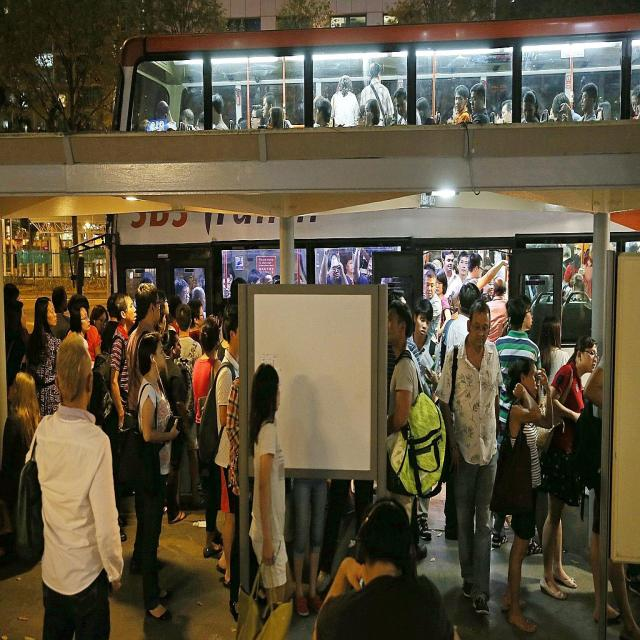body: (11, 329, 127, 639), (311, 494, 461, 640), (436, 296, 504, 617), (569, 350, 640, 639), (487, 354, 555, 636), (114, 328, 176, 627), (538, 334, 600, 601), (490, 292, 544, 556), (284, 466, 372, 621), (247, 361, 296, 606), (224, 373, 260, 625), (535, 312, 570, 554), (386, 297, 423, 524), (190, 314, 224, 560), (105, 292, 138, 542), (407, 296, 440, 542), (212, 304, 240, 591), (0, 372, 42, 560), (409, 298, 440, 543), (124, 282, 168, 446), (156, 328, 189, 525), (173, 303, 204, 508), (23, 295, 62, 419), (220, 260, 309, 302), (441, 280, 482, 370), (138, 270, 207, 321), (4, 278, 31, 402), (529, 239, 574, 313), (67, 292, 103, 362), (215, 460, 234, 590), (572, 75, 622, 124), (360, 61, 396, 128), (317, 247, 375, 287), (460, 251, 509, 293), (327, 74, 363, 130), (480, 244, 510, 301), (558, 81, 599, 121), (423, 268, 444, 344), (48, 285, 72, 342), (208, 302, 230, 362), (562, 242, 593, 284), (434, 268, 452, 336), (100, 292, 119, 356), (392, 86, 422, 126), (439, 248, 463, 298), (64, 305, 91, 349), (562, 272, 592, 310), (187, 298, 206, 356), (446, 83, 472, 125), (468, 82, 490, 124), (422, 250, 443, 292), (179, 103, 208, 131), (550, 91, 574, 122), (521, 88, 541, 124), (624, 562, 640, 606), (89, 304, 109, 338), (156, 100, 178, 130), (212, 92, 229, 130), (262, 90, 278, 129), (416, 96, 436, 125), (314, 98, 332, 128), (363, 98, 381, 128), (456, 250, 470, 285), (314, 94, 326, 128), (250, 103, 265, 129), (156, 321, 180, 337), (250, 104, 265, 129), (10, 245, 20, 278), (631, 84, 640, 120), (501, 98, 512, 124), (233, 113, 248, 131), (446, 102, 458, 124), (136, 114, 150, 132), (546, 102, 557, 124), (628, 86, 634, 120), (356, 105, 366, 125), (90, 262, 102, 278), (494, 104, 502, 124)
